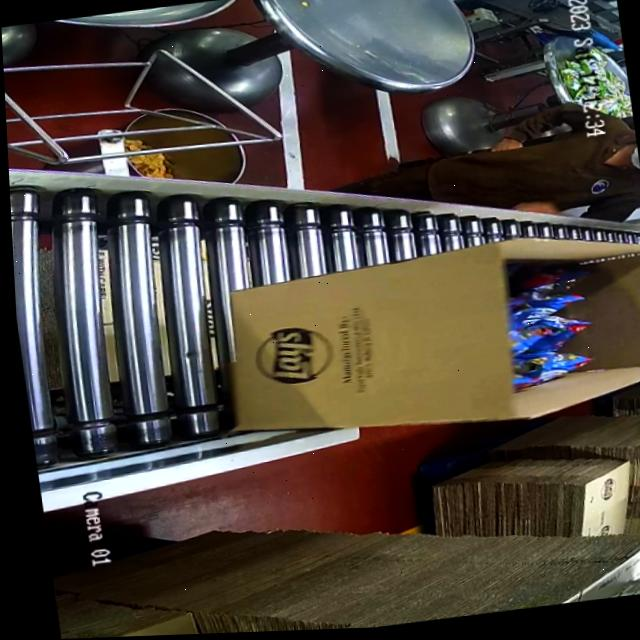PAPRIKA: (501, 265, 596, 384)
